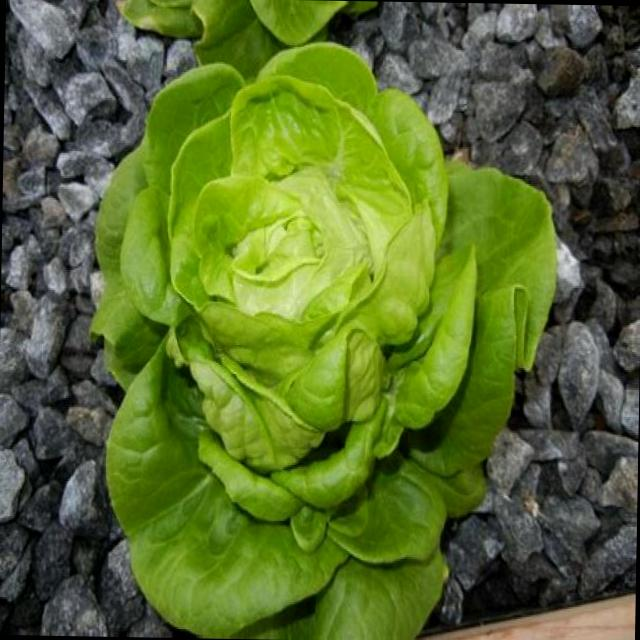Lettuce-Ready-to-Harvest: (95, 42, 554, 640)
